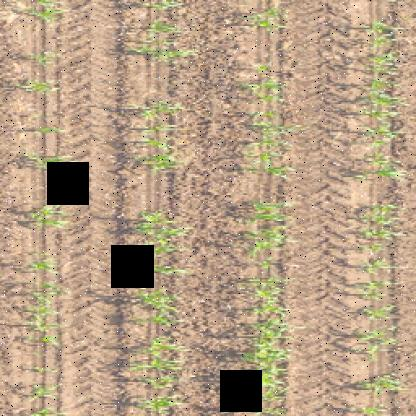sorghum_plant: (135, 205, 182, 411), (359, 201, 403, 406), (250, 200, 290, 414), (360, 23, 404, 180), (32, 0, 70, 174), (31, 203, 68, 354), (254, 67, 294, 182), (138, 99, 184, 167), (144, 4, 194, 64), (250, 8, 288, 36)
